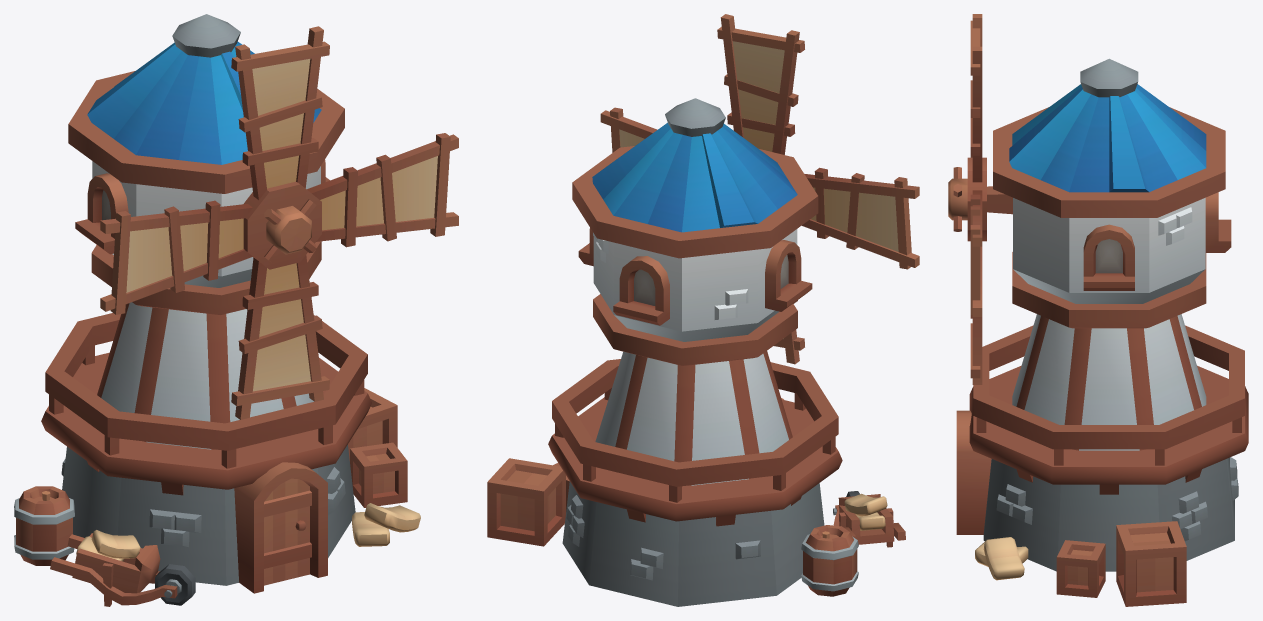
Rendered from windmill.glb.
The picture shows the model from 3 angles, left to right: view 1: azimuth 30°, elevation 25°; view 2: azimuth 150°, elevation 25°; view 3: azimuth 270°, elevation 25°; orthographic projection. The views are drawn at different scales.
Parts seen in each view (by area): view 1: building_windmill_blue, building_windmill_top_fan_blue, building_windmill_top_blue; view 2: building_windmill_blue, building_windmill_top_blue, building_windmill_top_fan_blue; view 3: building_windmill_blue, building_windmill_top_blue, building_windmill_top_fan_blue.
Part boxes in pixels (x1,y1,x2,y2): building_windmill_blue: [14, 302, 420, 606]; building_windmill_top_fan_blue: [100, 26, 458, 419]; building_windmill_top_blue: [68, 14, 344, 314]; building_windmill_blue: [487, 351, 905, 606]; building_windmill_top_blue: [572, 98, 818, 365]; building_windmill_top_fan_blue: [600, 14, 919, 364]; building_windmill_blue: [956, 314, 1248, 606]; building_windmill_top_blue: [987, 58, 1231, 328]; building_windmill_top_fan_blue: [948, 14, 986, 384].
Size of the model in its own units: 1.13 by 1.46 by 0.8165.
1 material, 1 textured.
